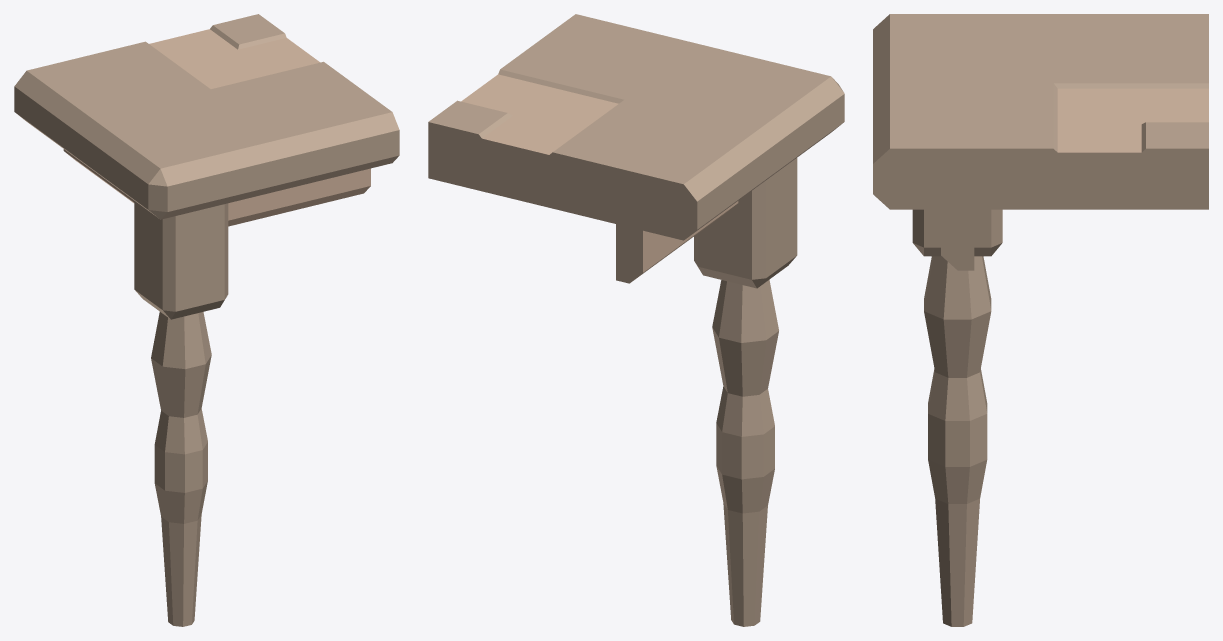
Rendered from Prop_Dining_Room_Table_Modular_Corner.glb.
The picture shows the model from 3 angles, left to right: view 1: azimuth 30°, elevation 25°; view 2: azimuth 150°, elevation 25°; view 3: azimuth 270°, elevation 25°; orthographic projection. The views are drawn at different scales.
Parts seen in each view (by area): view 1: Prop_Dining_Room_Table_Modular_Corner; view 2: Prop_Dining_Room_Table_Modular_Corner; view 3: Prop_Dining_Room_Table_Modular_Corner.
Part boxes in pixels (x1,y1,x2,y2): Prop_Dining_Room_Table_Modular_Corner: [14, 14, 399, 626]; Prop_Dining_Room_Table_Modular_Corner: [428, 14, 844, 626]; Prop_Dining_Room_Table_Modular_Corner: [873, 14, 1208, 626].
Bounding box in the file's own units: 0.225 × 0.4275 × 0.225.
